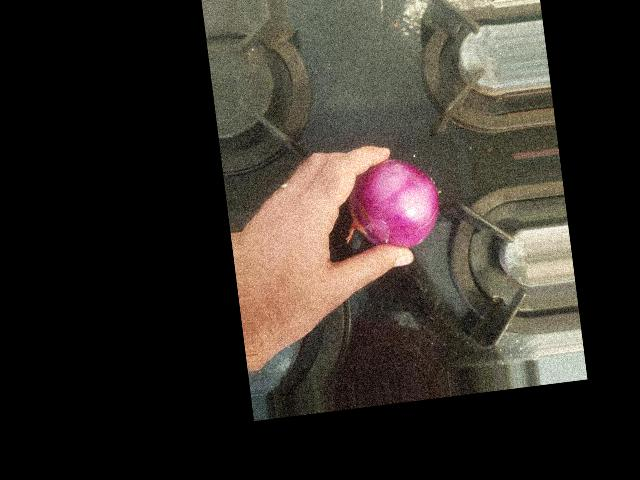onion: (382, 78, 480, 169)
